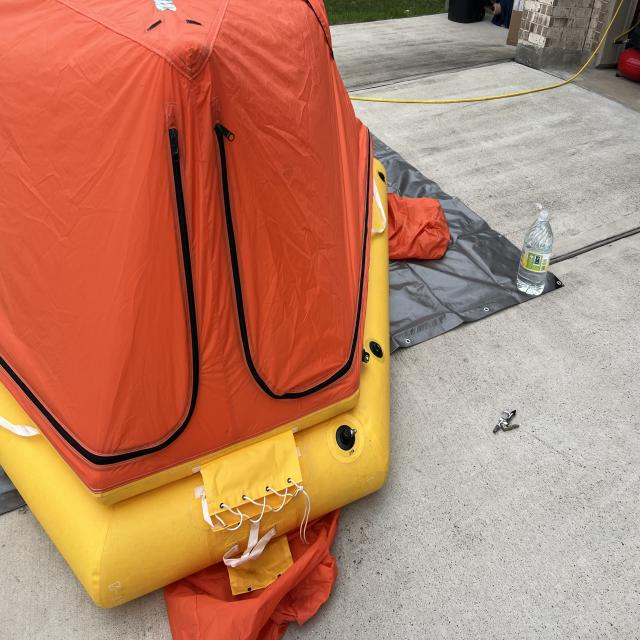Multi-person_life_raft: (0, 0, 450, 639)
